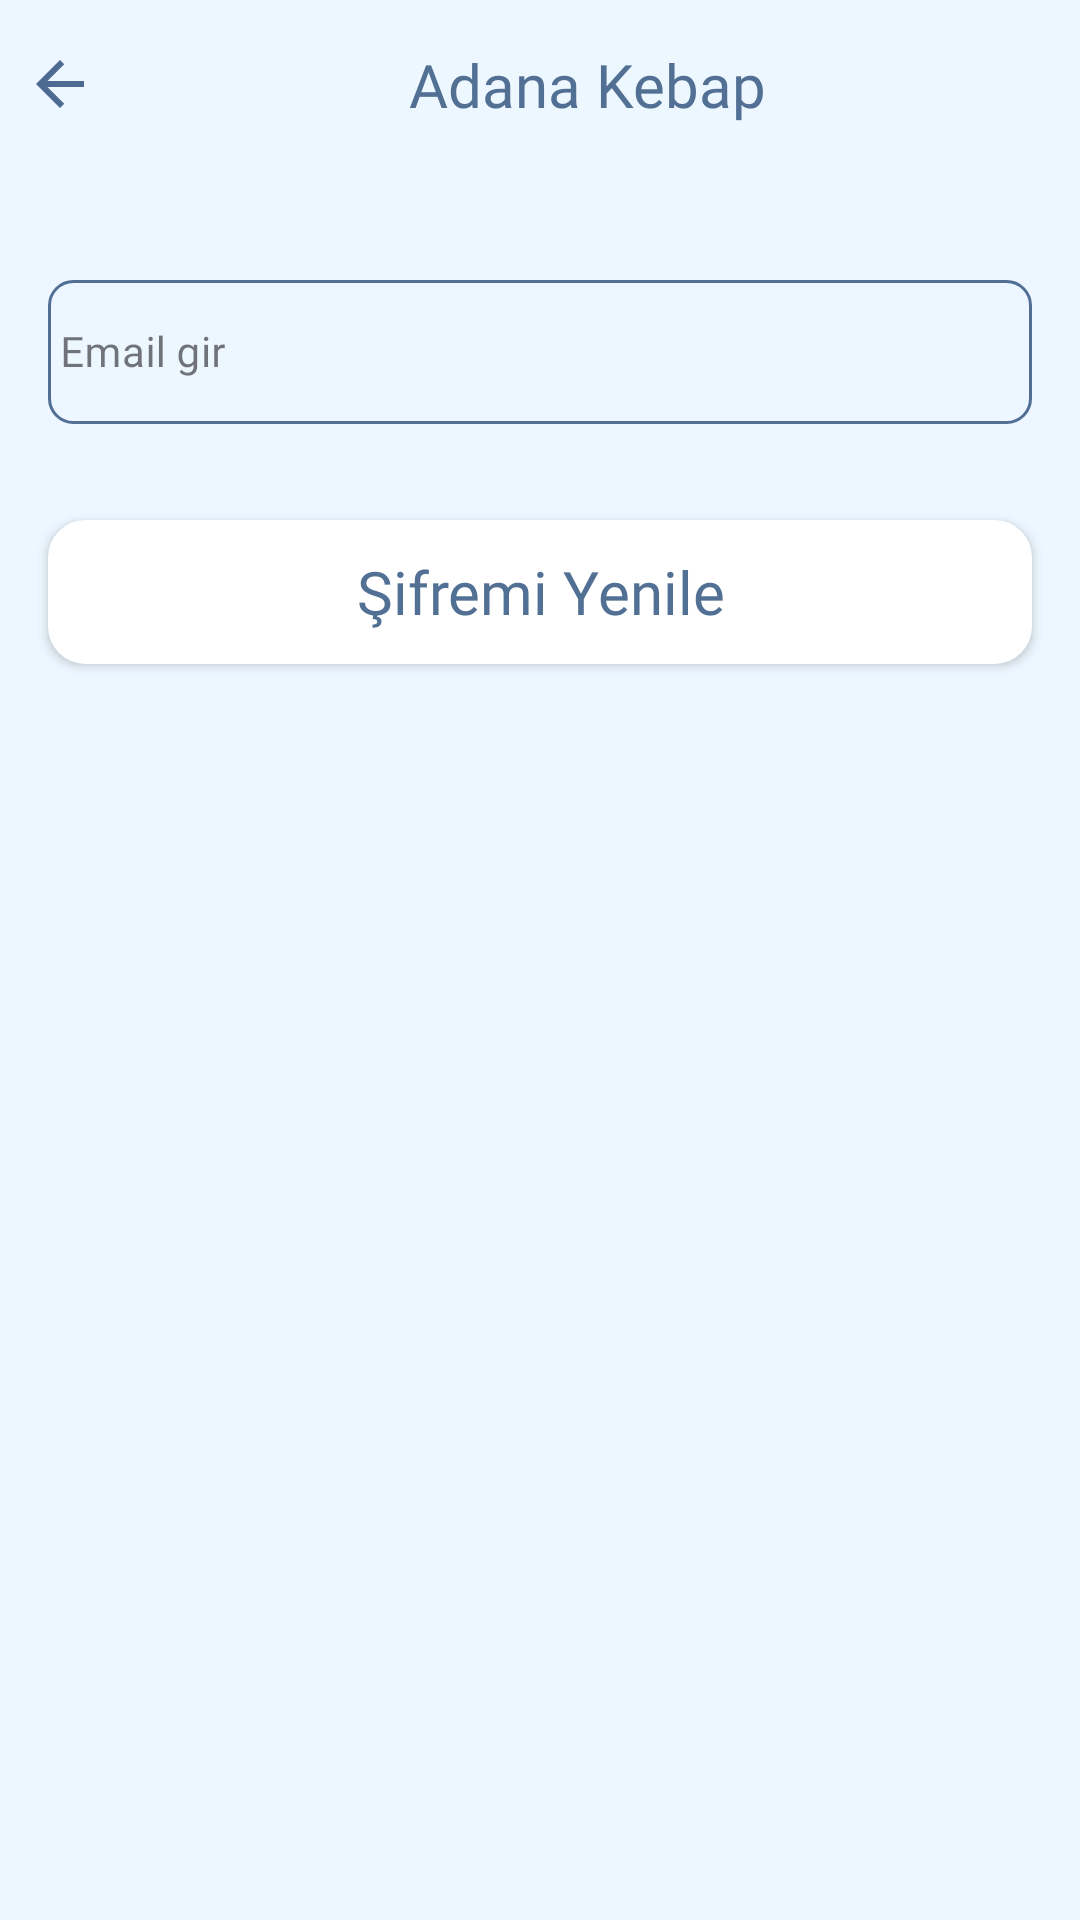

Locate icon controls on the screen. Image size 1080×1920, boxes as (x1, y1, x2, y2).
back: (36, 60, 84, 108)
